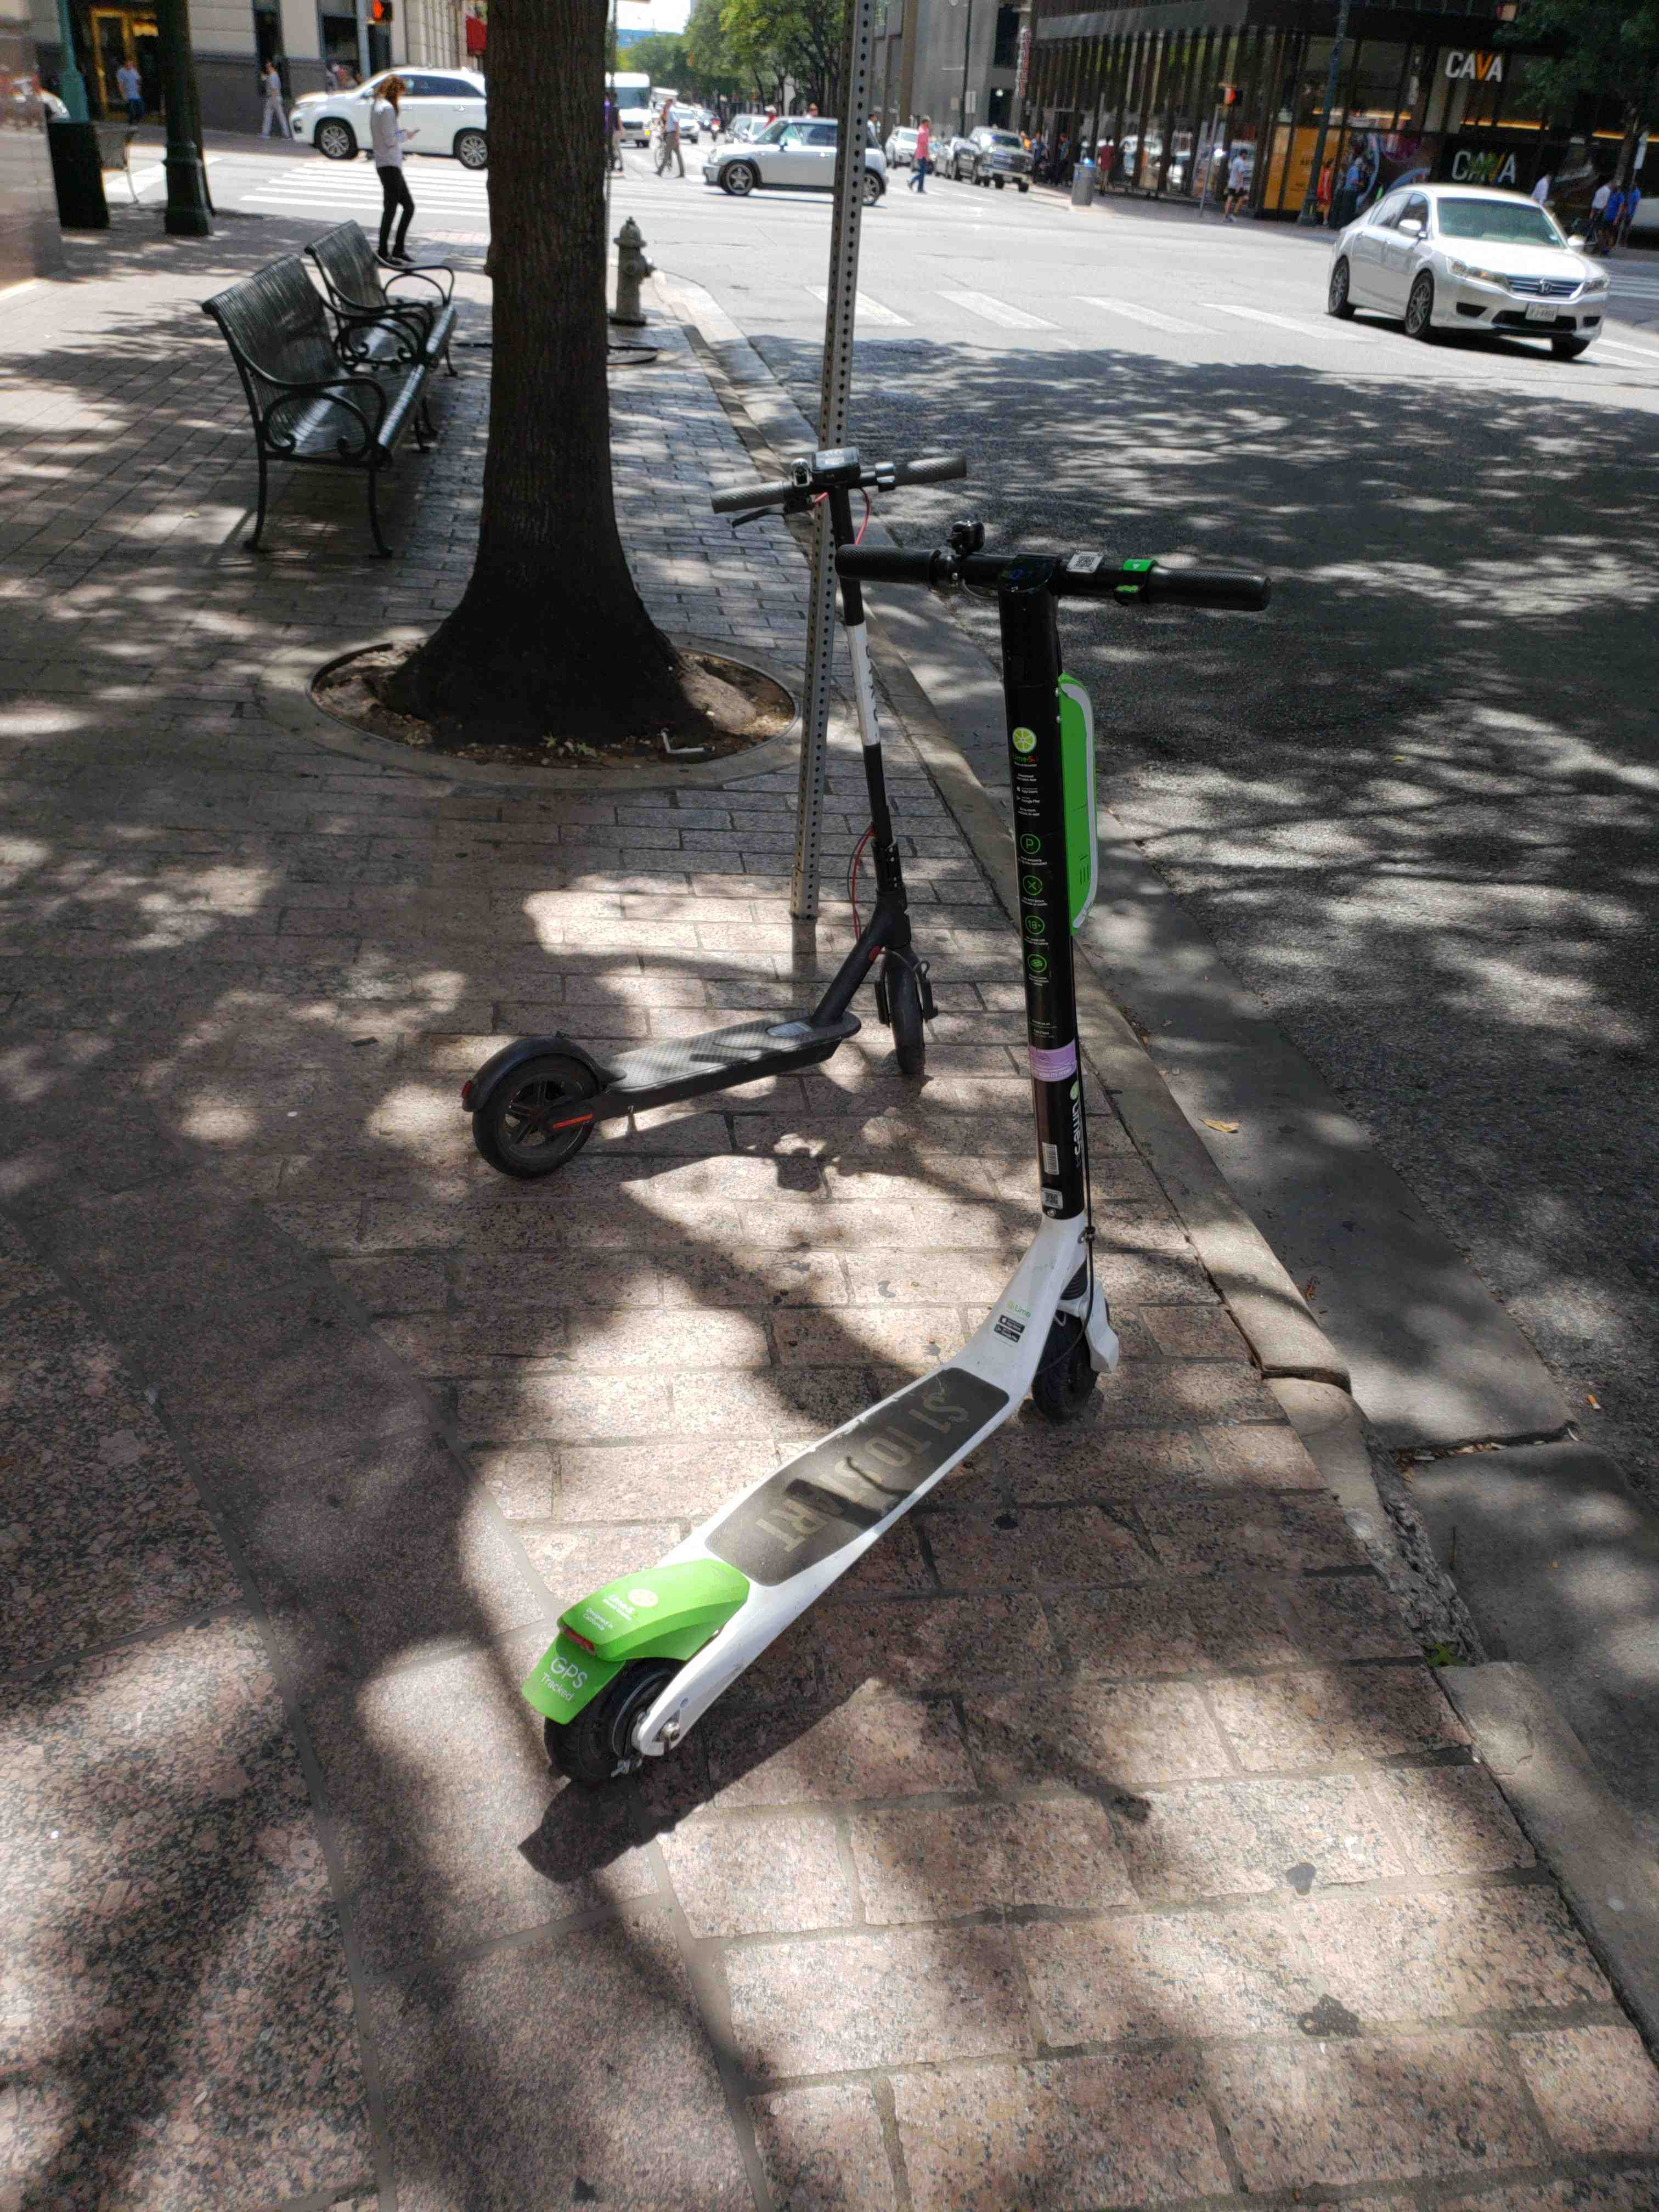scooter: (561, 500, 1300, 1848), (453, 453, 990, 1242)
